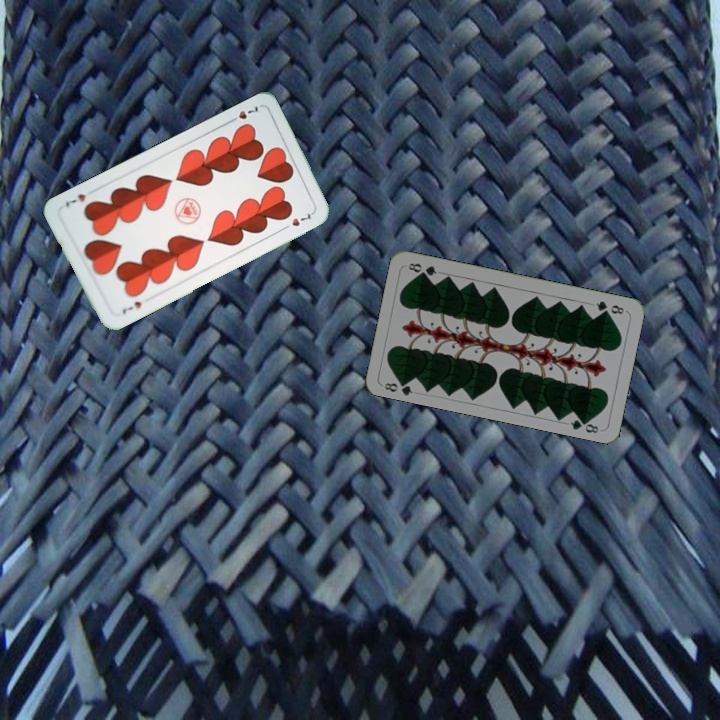G8: (380, 375, 415, 398), (592, 297, 627, 317)
H7: (224, 101, 261, 126), (118, 297, 144, 316)
